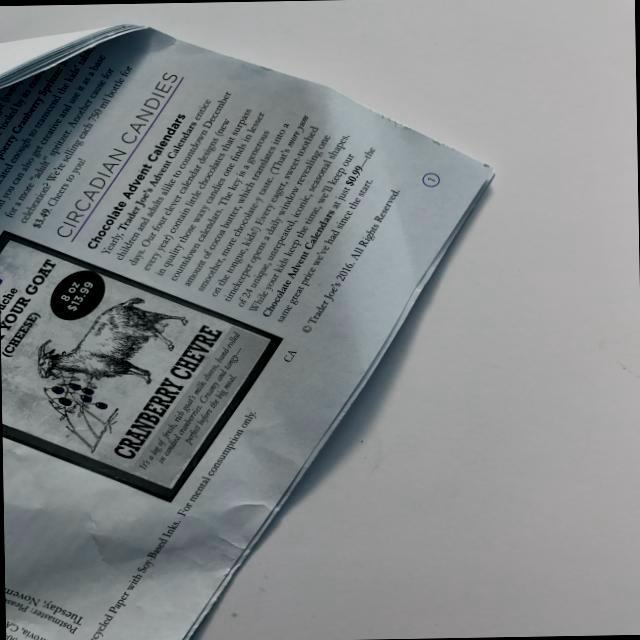paper: (0, 14, 528, 640)
